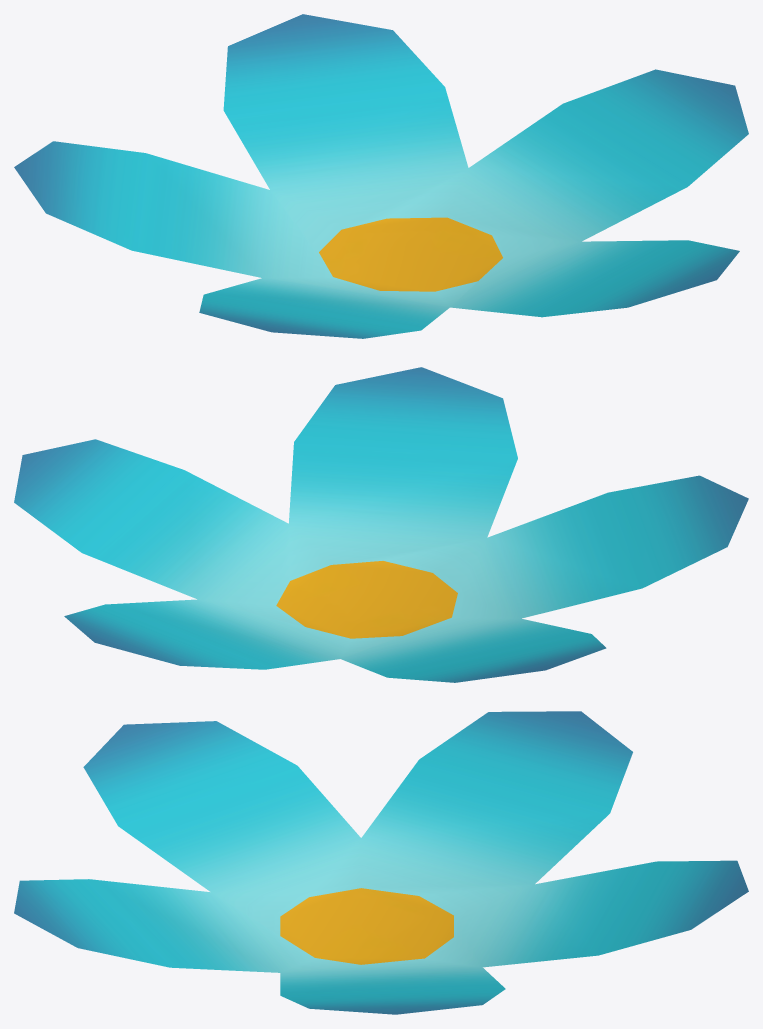
File: flower_015_base_material_0.fbx
The picture shows the model from 3 angles, top to bottom: view 1: azimuth 30°, elevation 25°; view 2: azimuth 150°, elevation 25°; view 3: azimuth 270°, elevation 25°; orthographic projection.
Parts seen in each view (by area): view 1: flower_015_base_material_0; view 2: flower_015_base_material_0; view 3: flower_015_base_material_0.
Part boxes in pixels (x1=…): flower_015_base_material_0: x1=14, y1=14, x2=748, y2=338; flower_015_base_material_0: x1=14, y1=367, x2=748, y2=682; flower_015_base_material_0: x1=14, y1=711, x2=748, y2=1014.
Size of the model in its own units: 0.4295 by 0.4326 by 0.0506.
Materials: 1 (1 with a texture image).
